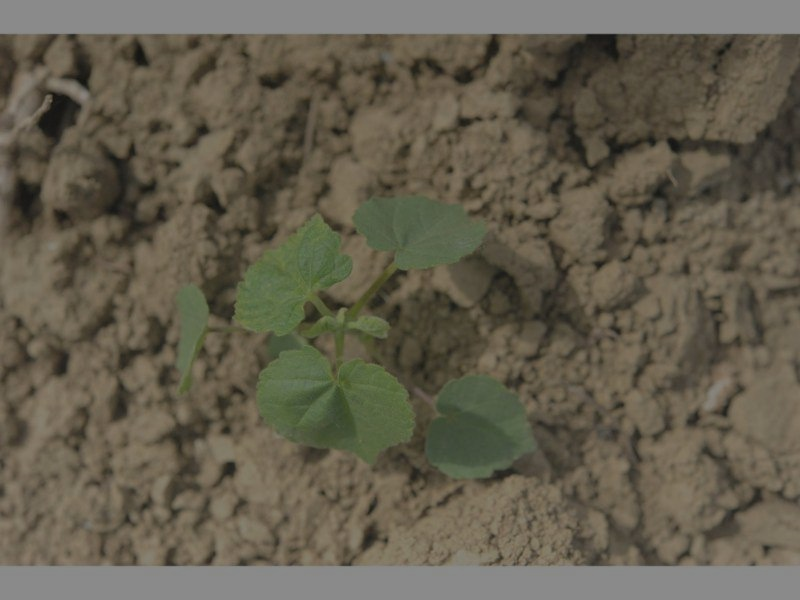velvet: (176, 194, 540, 477)
